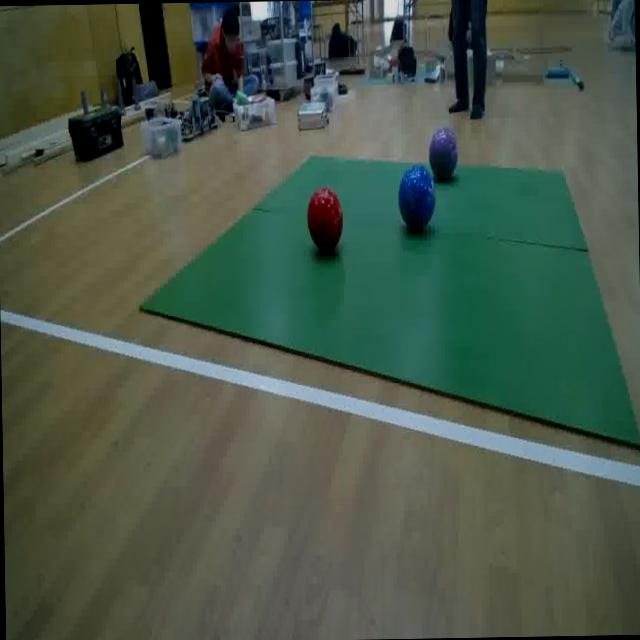blue_ball: (399, 163, 437, 230)
purple_ball: (429, 128, 457, 180)
red_ball: (306, 186, 342, 253)
